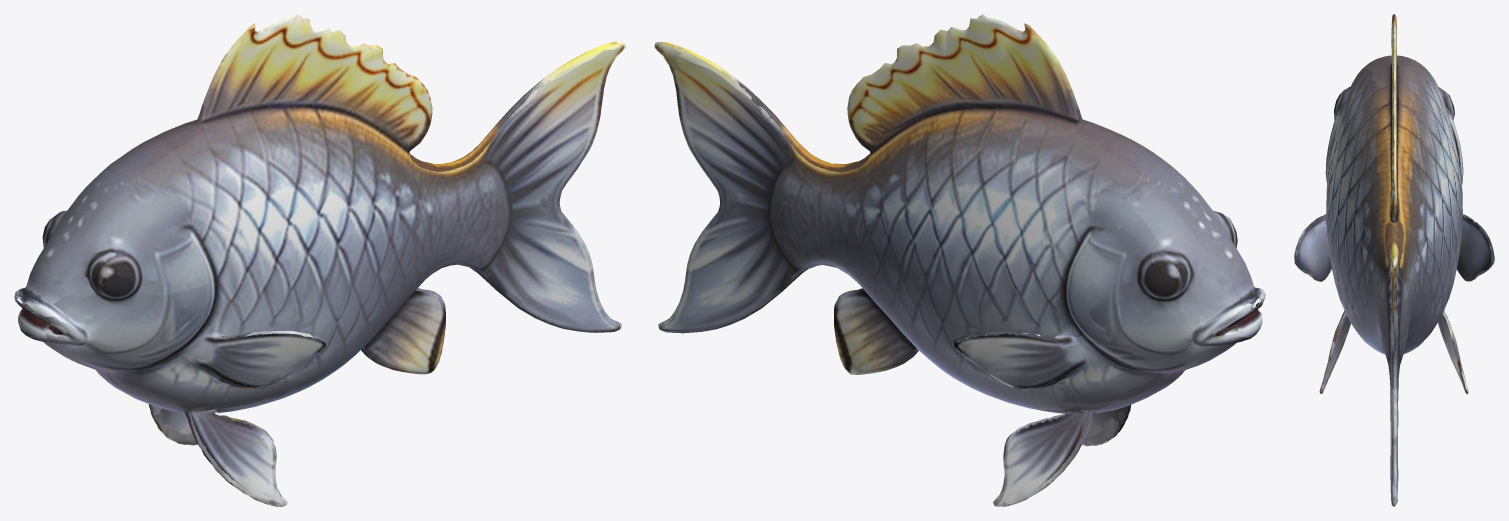
Rendered from fish_cloudfin.glb.
3 views of the same model, side by side, from view 1: azimuth 30°, elevation 25°; view 2: azimuth 150°, elevation 25°; view 3: azimuth 270°, elevation 25° (orthographic). The views are drawn at different scales.
Visible parts, largest first — view 1: fish_cloudfin; view 2: fish_cloudfin; view 3: fish_cloudfin.
Part boxes in pixels (left/top/right/bottom): fish_cloudfin: left=14, top=14, right=625, bottom=506; fish_cloudfin: left=654, top=14, right=1265, bottom=506; fish_cloudfin: left=1294, top=14, right=1494, bottom=506.
Size of the model in its own units: 1 by 0.708 by 0.3336.
Materials: 1 (1 with a texture image).
